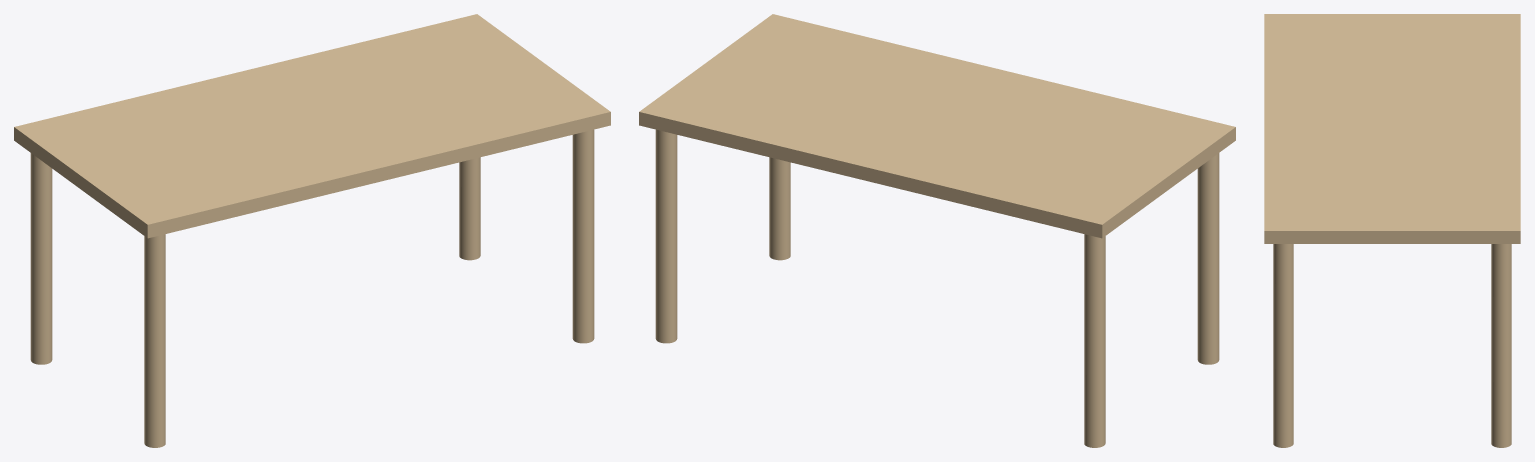
Rendered from ikea-jattevansen-20502927-g2-proxy.glb.
The picture shows the model from 3 angles, left to right: view 1: azimuth 30°, elevation 25°; view 2: azimuth 150°, elevation 25°; view 3: azimuth 270°, elevation 25°; orthographic projection. The views are drawn at different scales.
Parts seen in each view (by area): view 1: proxy_body, leg (×4); view 2: proxy_body, leg (×4); view 3: proxy_body, leg (×2).
Boxes of the visible parts, x1,y1,x2,y2 form: proxy_body: (14,14,610,238); leg (×4): (30,129,594,447); proxy_body: (639,14,1235,238); leg (×4): (655,129,1219,447); proxy_body: (1264,14,1520,243); leg (×2): (1273,244,1511,447).
Bounding box in the file's own units: 1.6 × 0.76 × 0.8.
